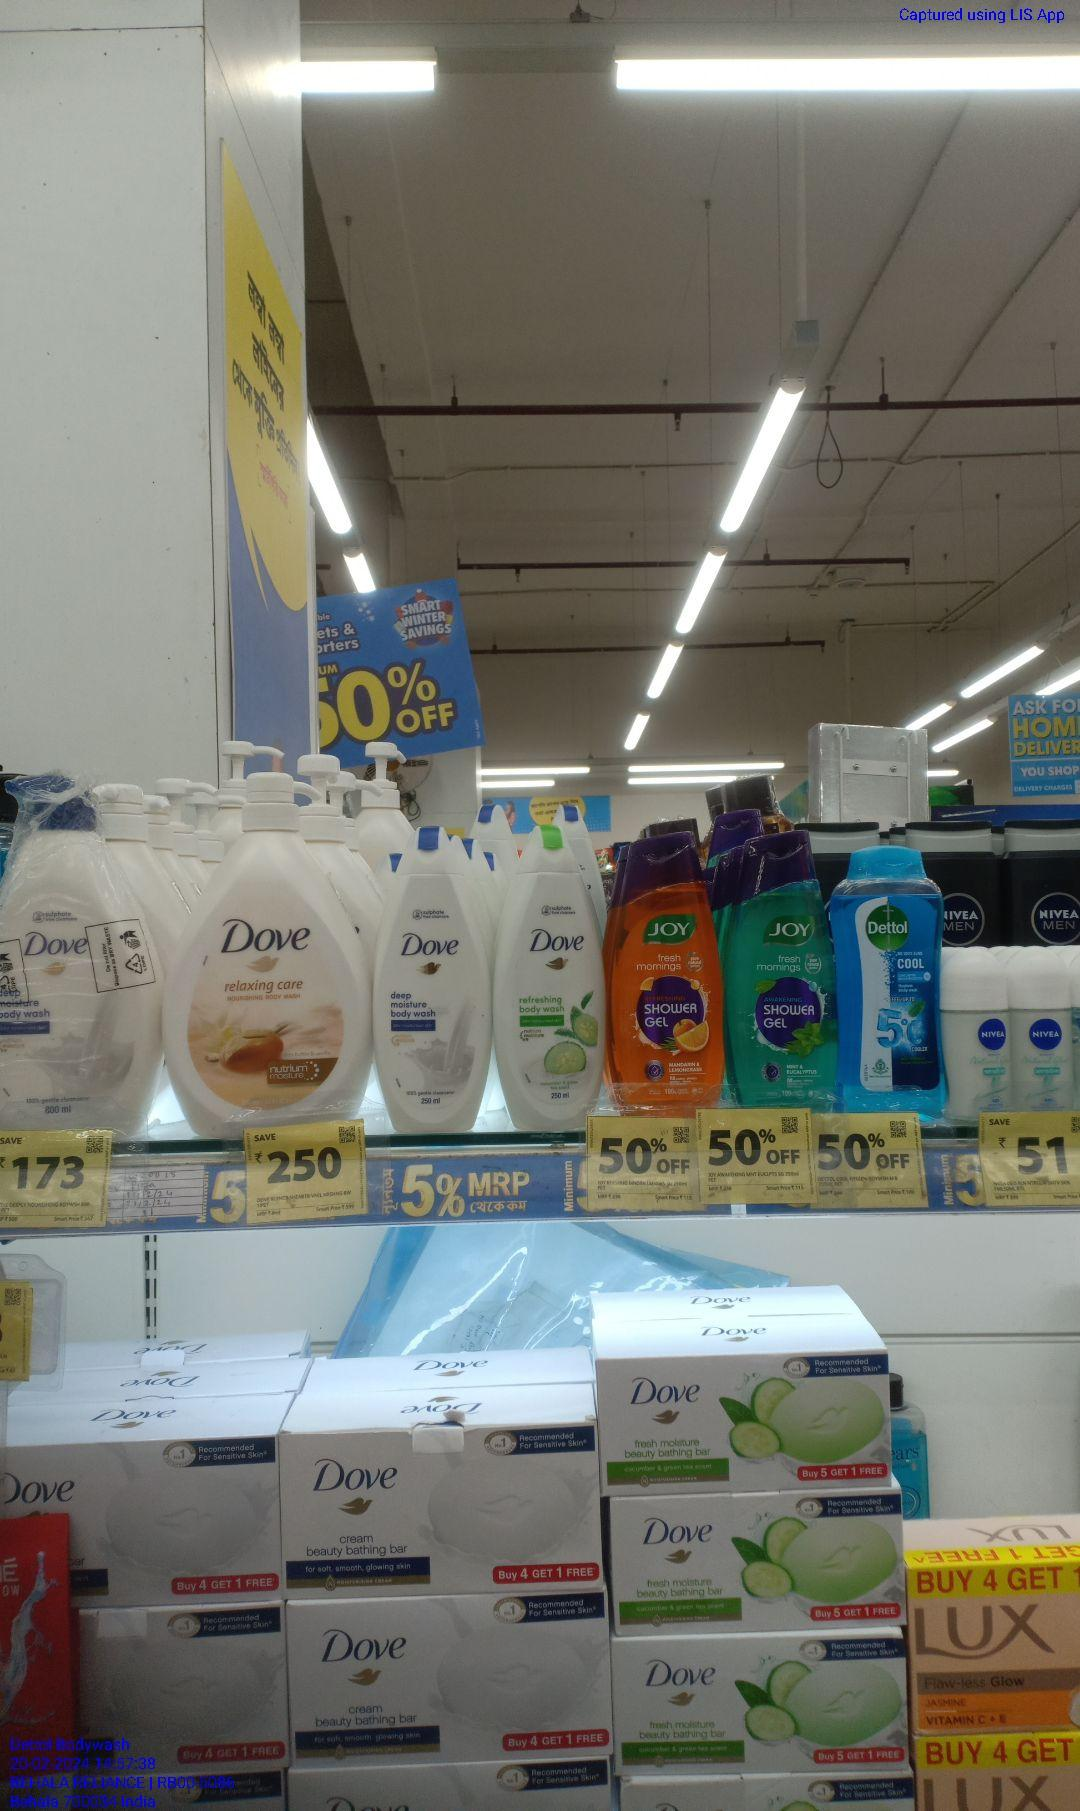Dettol_Bodywash_Cool: (846, 851, 941, 1108)
Dove_Deep_Moisture_Body_Wash_250ML: (375, 839, 486, 1136)
Dove_Refreshing_Body_Wash_250ML: (495, 837, 597, 1131)
Joy_Shower_Gel_Mandarin_and_Lemongrass_250ML: (608, 833, 720, 1105)
Joy_Shower_Gel_Mint_and_Eucalyptus_250ML: (732, 843, 840, 1103)
